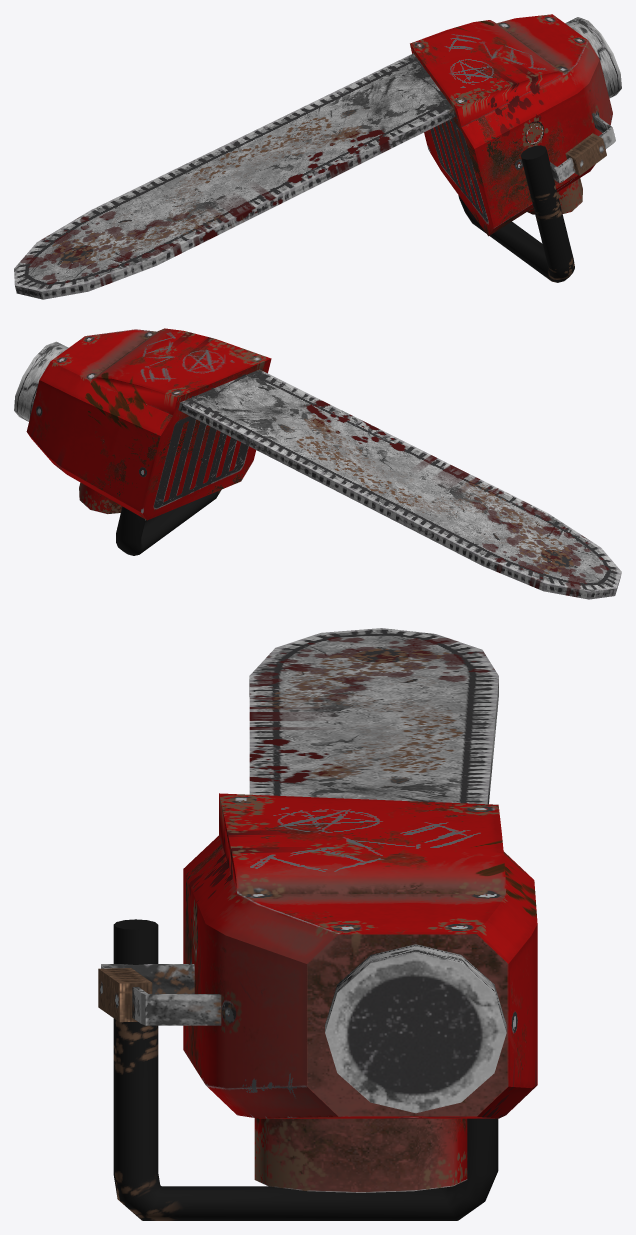
Rendered from HANDS_CHIBI_CHAINSAW.fbx.
3 renders of one model, top to bottom at view 1: azimuth 30°, elevation 25°; view 2: azimuth 150°, elevation 25°; view 3: azimuth 270°, elevation 25°, orthographic. The views are drawn at different scales.
Parts seen in each view (by area): view 1: HANDS_CHIBI_CHAINSAW_RIGHT; view 2: HANDS_CHIBI_CHAINSAW_RIGHT; view 3: HANDS_CHIBI_CHAINSAW_RIGHT.
Boxes of the visible parts, box(x1,y1,x2,y2) form: HANDS_CHIBI_CHAINSAW_RIGHT: box(14, 14, 621, 299); HANDS_CHIBI_CHAINSAW_RIGHT: box(14, 328, 621, 599); HANDS_CHIBI_CHAINSAW_RIGHT: box(98, 628, 537, 1220).
Bounding box in the file's own units: 0.1216 × 0.0368 × 0.0399.
